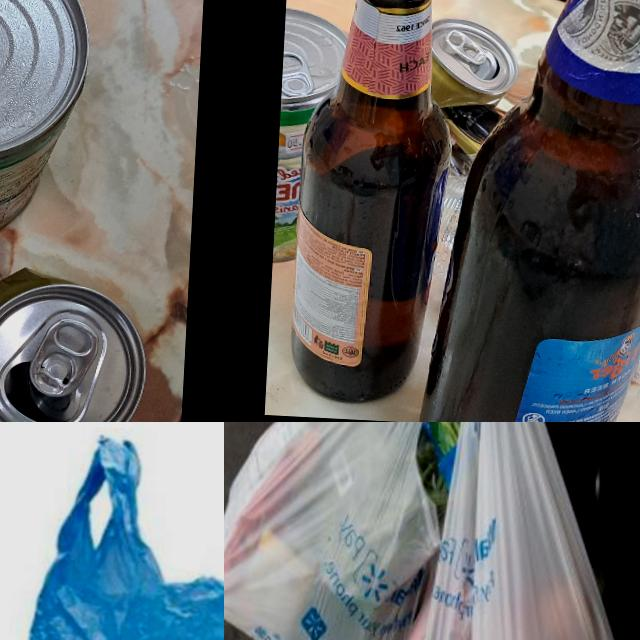aba de lata: (29, 316, 102, 398)
garrafa de vidro: (418, 0, 640, 422), (286, 0, 451, 404)
lata: (0, 264, 153, 422), (0, 0, 94, 251)
sacola plástica: (224, 422, 490, 640), (380, 422, 640, 640), (0, 422, 224, 640)
